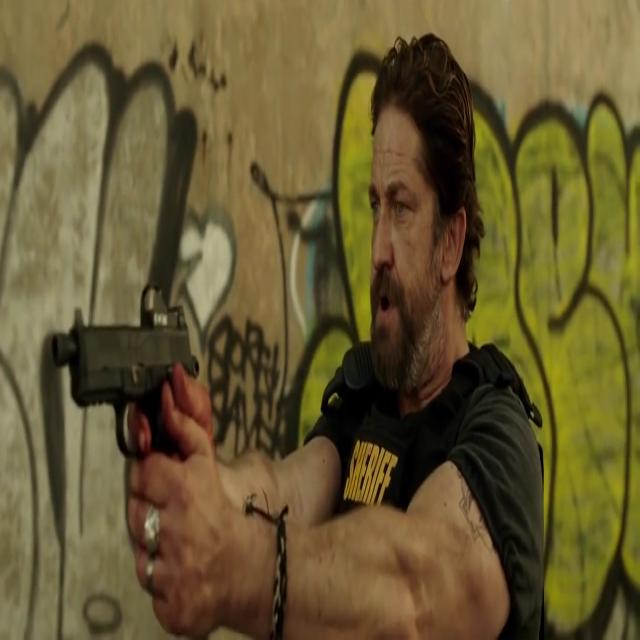Weapon: (50, 293, 246, 521)
